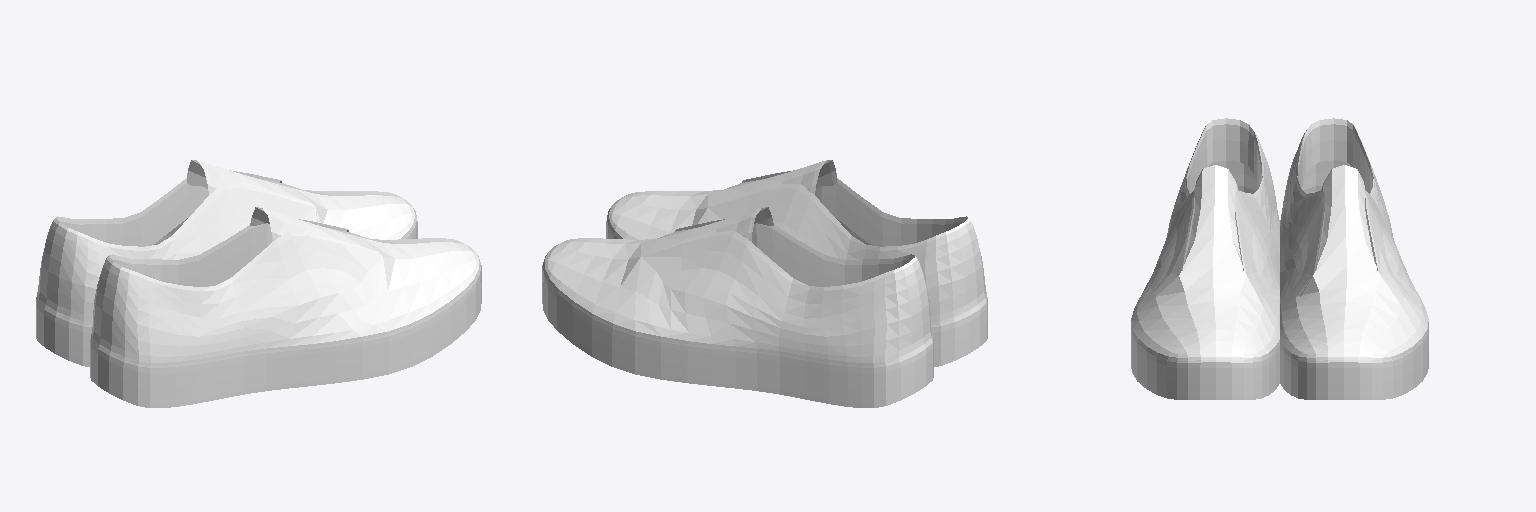
File: vans.obj
3 views of the same model, side by side, from view 1: azimuth 30°, elevation 25°; view 2: azimuth 150°, elevation 25°; view 3: azimuth 270°, elevation 25° (orthographic).
Parts seen in each view (by area): view 1: Plane007, Plane005; view 2: Plane005, Plane007; view 3: Plane005, Plane007.
Boxes of the visible parts, x1,y1,x2,y2 form: Plane007: [90, 207, 481, 407]; Plane005: [36, 160, 417, 366]; Plane005: [542, 207, 933, 407]; Plane007: [606, 160, 987, 366]; Plane005: [1280, 118, 1428, 399]; Plane007: [1131, 118, 1279, 399].
Size of the model in its own units: 141 by 57.02 by 98.41.